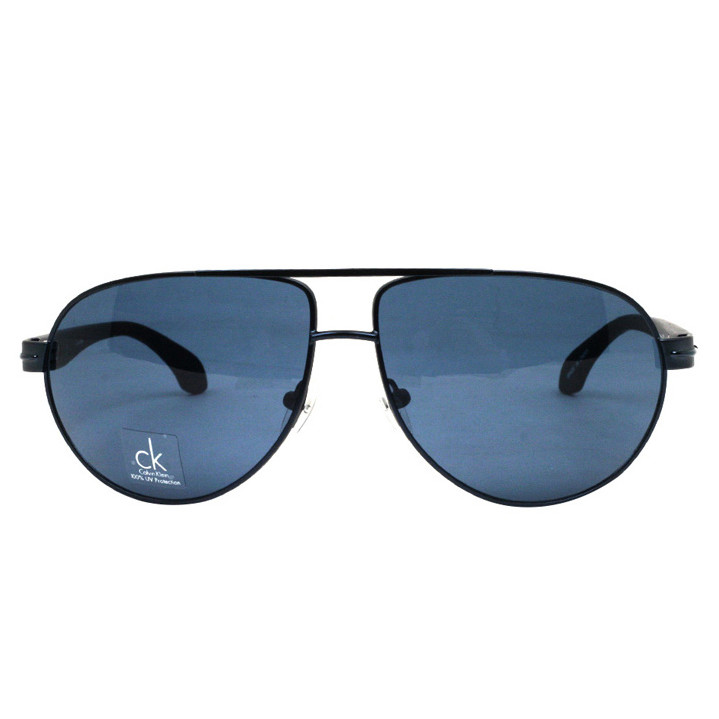Calvin Klein: (132, 433, 173, 474)
